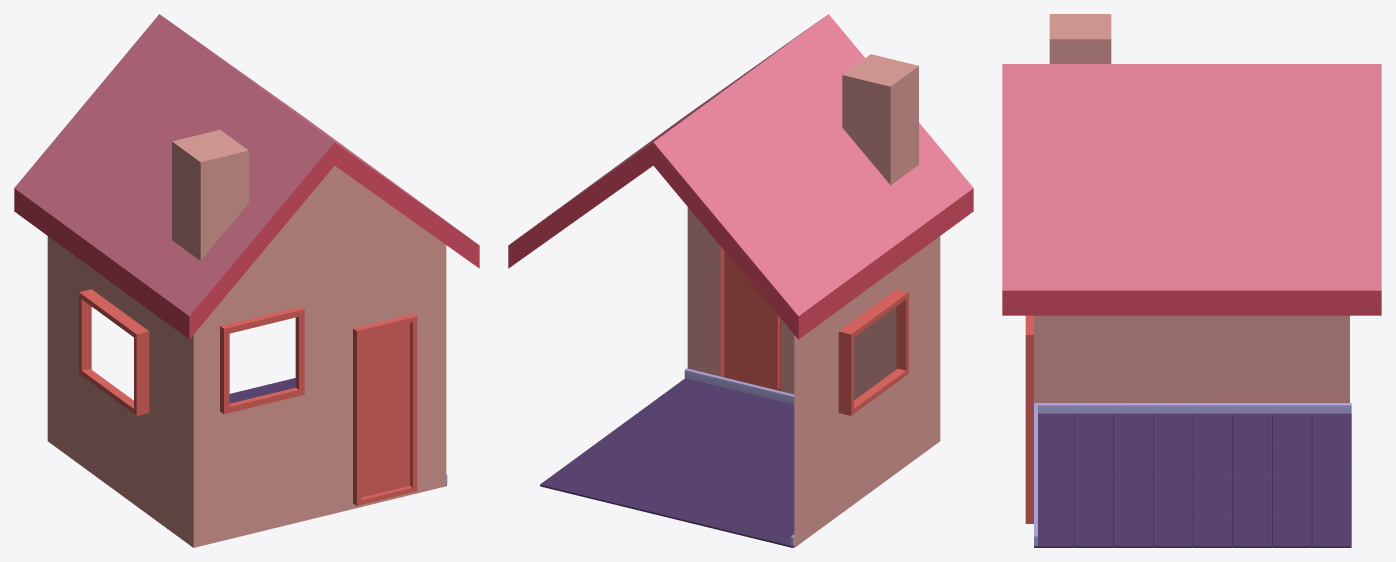
The model's file is ExportedBlenderFBXFile.fbx.
3 renders of one model, left to right at view 1: azimuth 30°, elevation 25°; view 2: azimuth 150°, elevation 25°; view 3: azimuth 270°, elevation 25°, orthographic. The views are drawn at different scales.
Visible parts, largest first — view 1: House, Floor; view 2: House, Floor, Floorboard; view 3: House, Floor, Floorboard.
Boxes of the visible parts, box(x1,y1,x2,y2) form: House: box(14, 14, 479, 547); Floor: box(229, 378, 446, 485); House: box(508, 14, 973, 547); Floor: box(540, 378, 794, 547); Floorboard: box(684, 368, 794, 545); House: box(1002, 14, 1381, 523); Floor: box(1034, 413, 1351, 547); Floorboard: box(1034, 403, 1351, 545).
Bounding box in the file's own units: 2.3 × 2.91 × 2.4.
